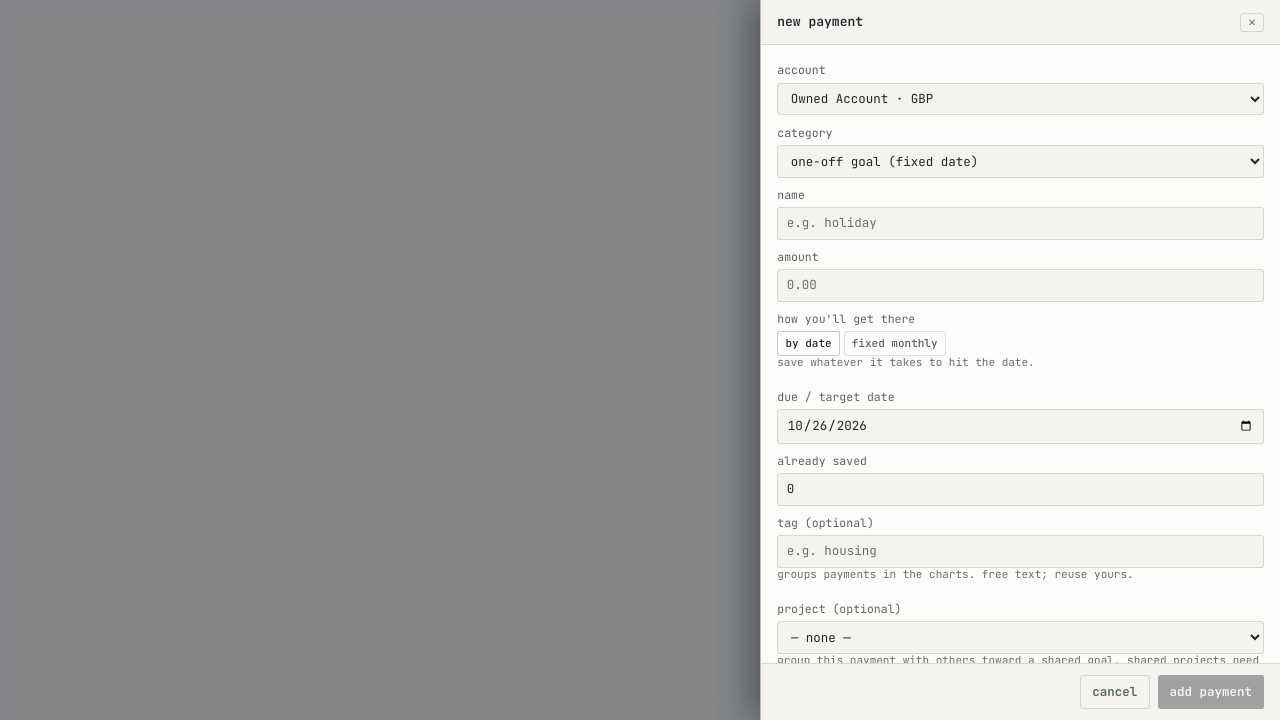
Test: NewPaymentDrawer · goal modes › blocks submit when a dated goal has no date
Expected: the dropdown labelled "account" shows "Owned Account · GBP", [777,83,1264,115]
In the field with placeholder "e.g. holiday": {"x": 1021, "y": 223} [777,207,1264,240], type "New telly"
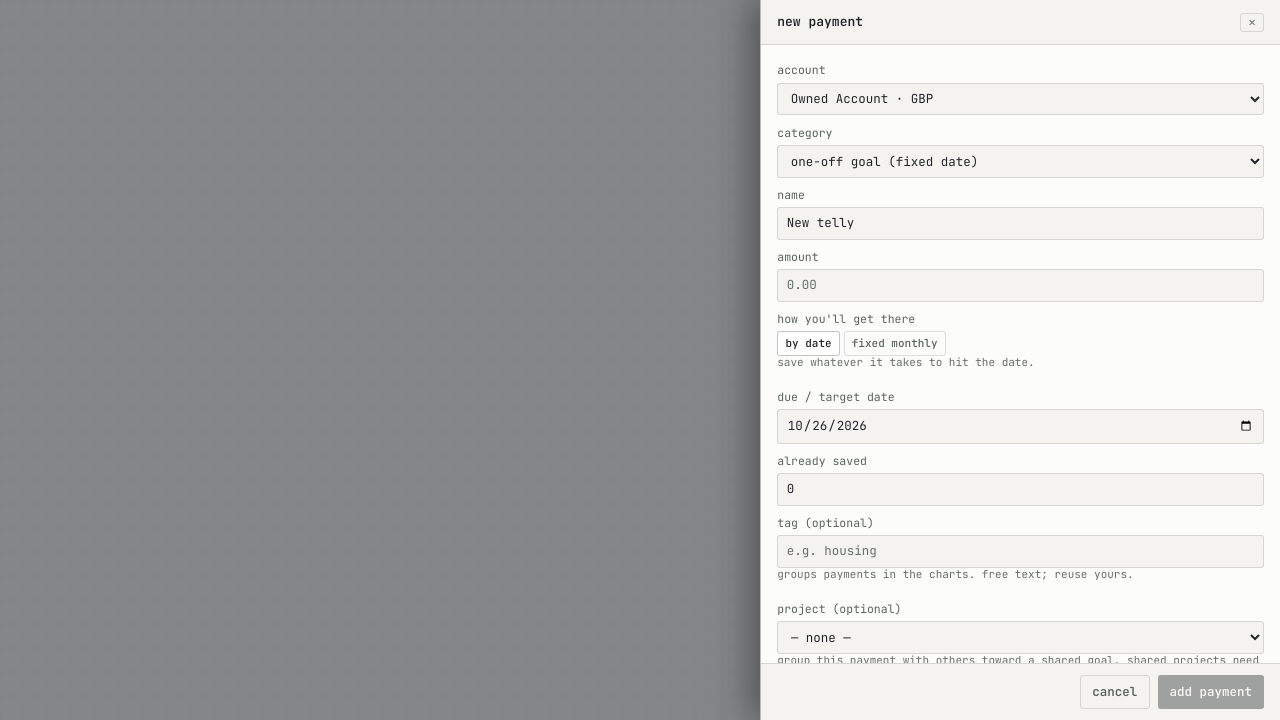
In the field labelled "amount": {"x": 1021, "y": 285} [777,269,1264,302], type "1200"
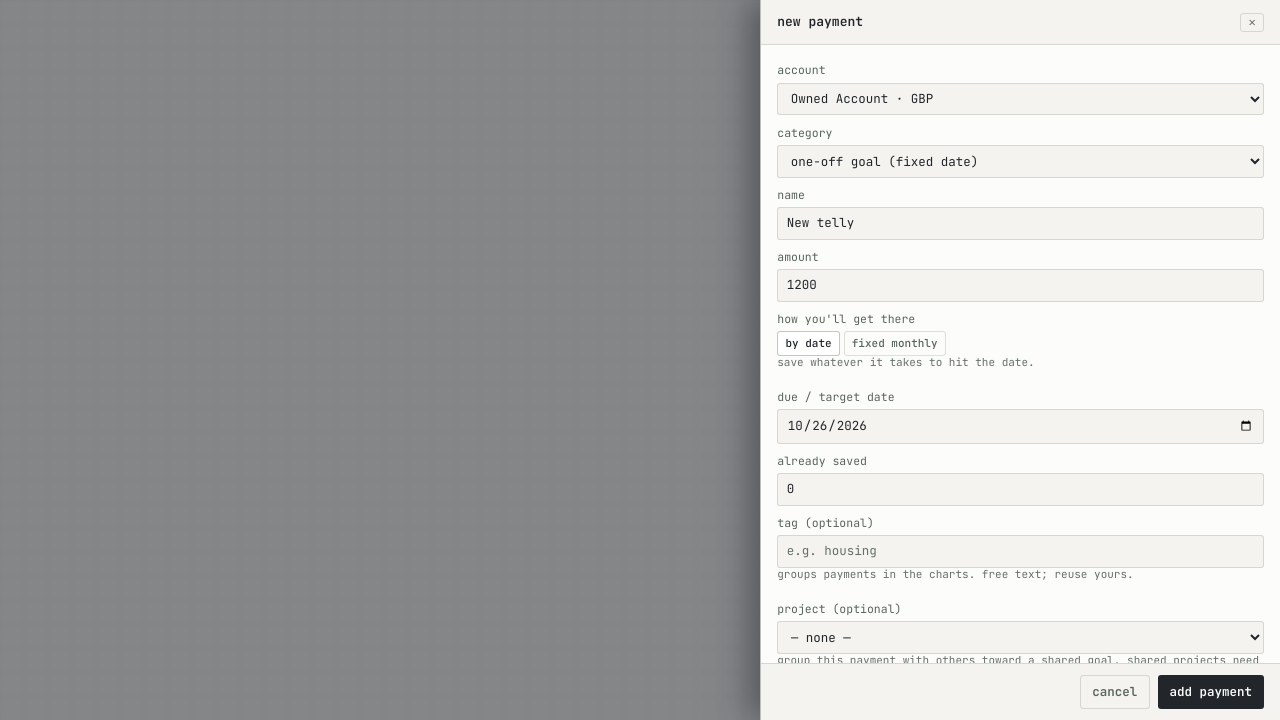
Result: the button "add payment" is enabled at [1158,675,1264,709]
Clear the date field labelled "due / target date": {"x": 1021, "y": 427} [777,409,1264,444]
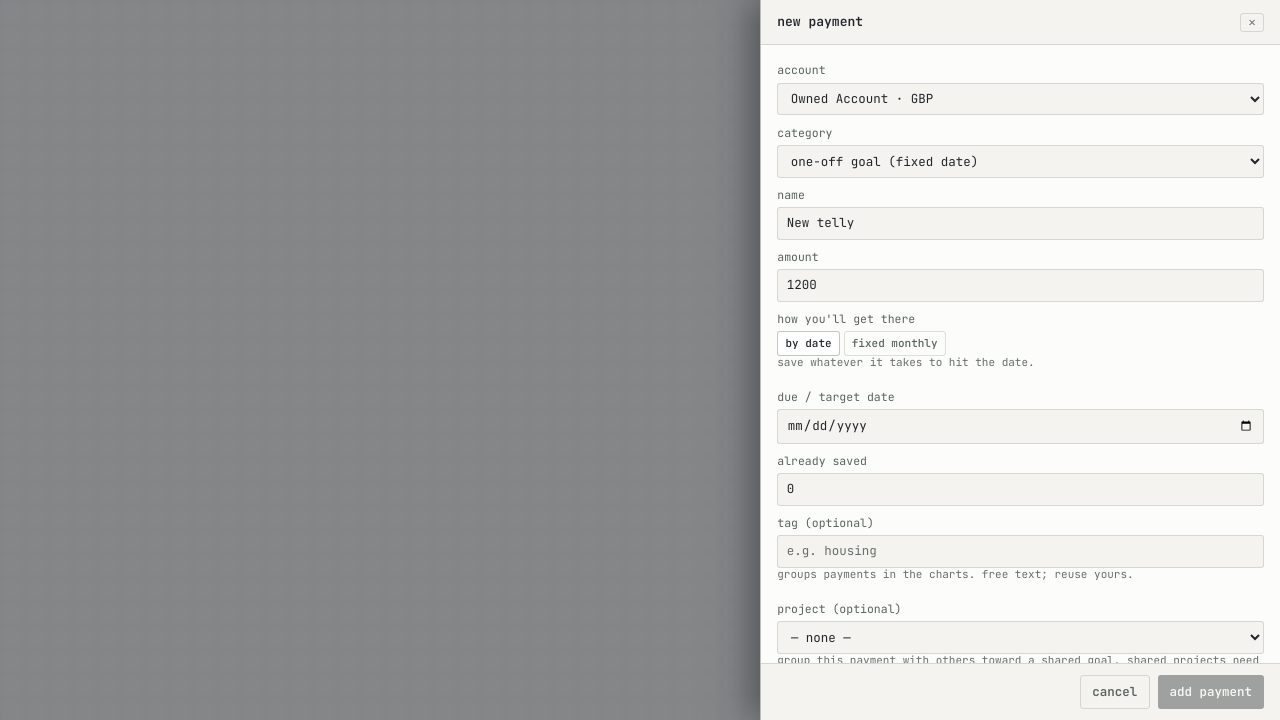
Result: the button "add payment" is disabled at [1158,675,1264,709]
